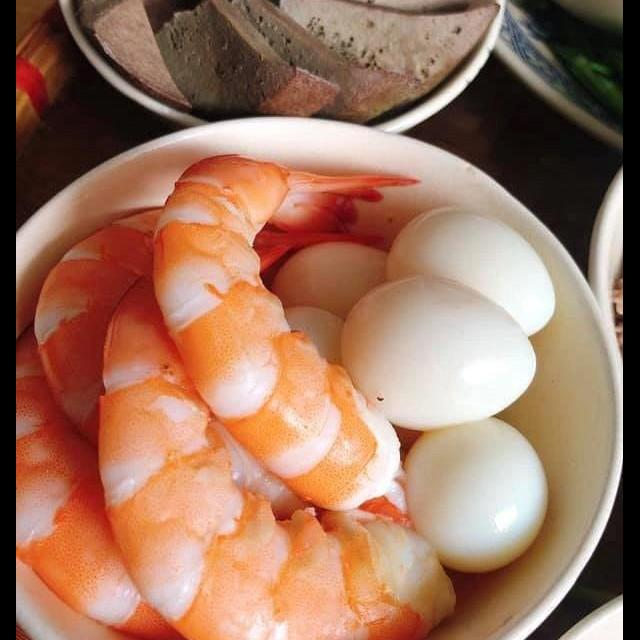gan: (259, 0, 507, 126), (140, 0, 342, 135), (224, 0, 424, 133), (230, 0, 483, 60), (70, 0, 197, 118), (190, 0, 467, 31)
tom: (91, 225, 461, 640), (28, 200, 420, 550), (17, 227, 305, 640), (142, 146, 428, 521)
trung: (334, 270, 540, 432), (398, 409, 556, 577), (382, 201, 562, 347), (268, 235, 402, 331)
